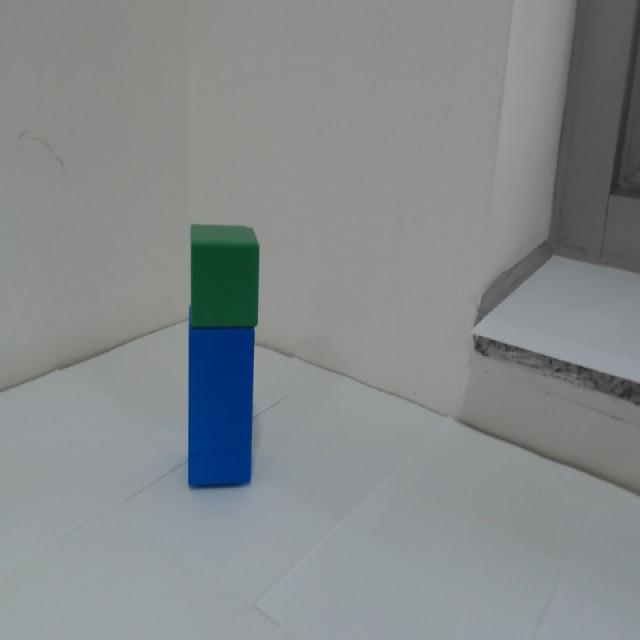cube: (185, 217, 280, 330)
